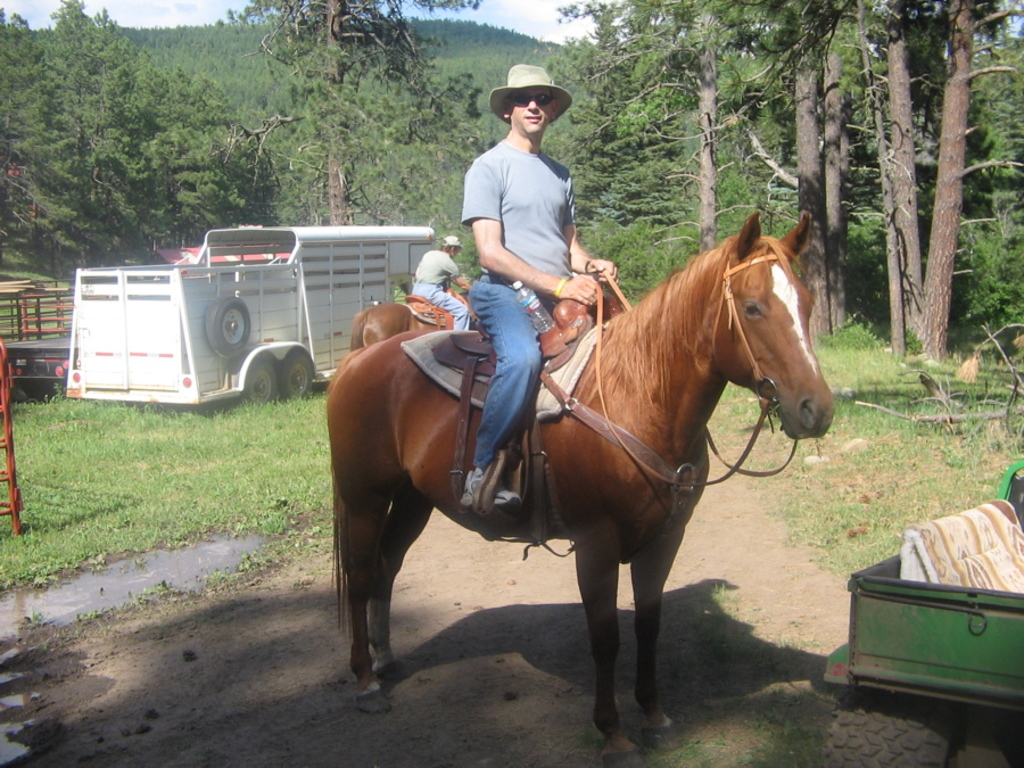horse: (325, 208, 836, 767)
